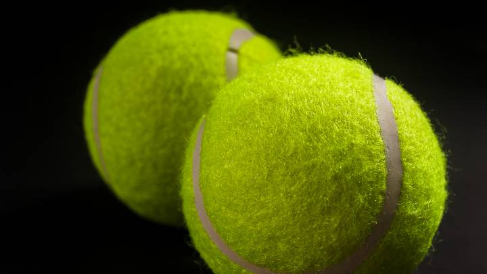ball: (177, 48, 452, 274), (75, 7, 290, 233)
